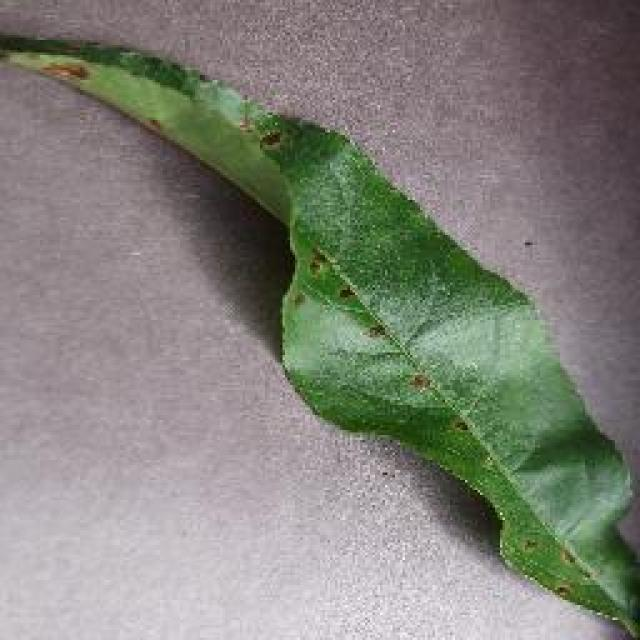Peach_Bacterial_Spot: (36, 0, 436, 310)
